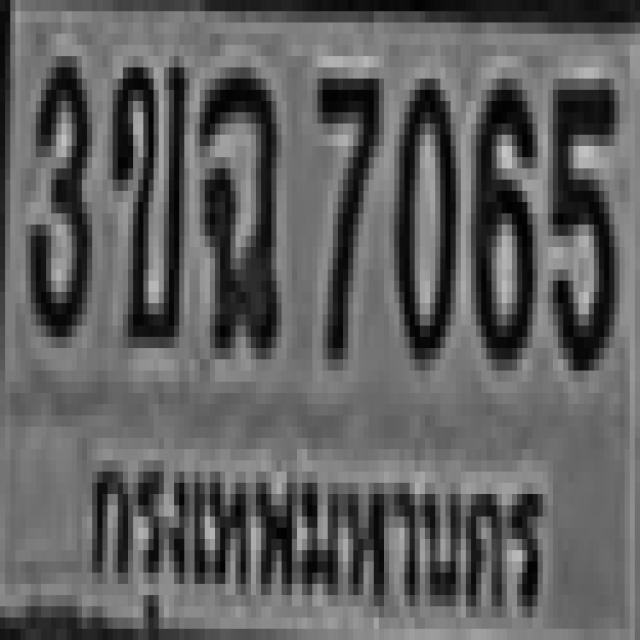0: (389, 68, 451, 360)
11KhorKhai: (108, 51, 184, 331)
18ChorChing: (195, 56, 276, 348)
3: (26, 45, 87, 326)
5: (548, 68, 614, 360)
6: (471, 68, 533, 360)
7: (312, 67, 374, 348)
Bangkok: (70, 438, 548, 637)
